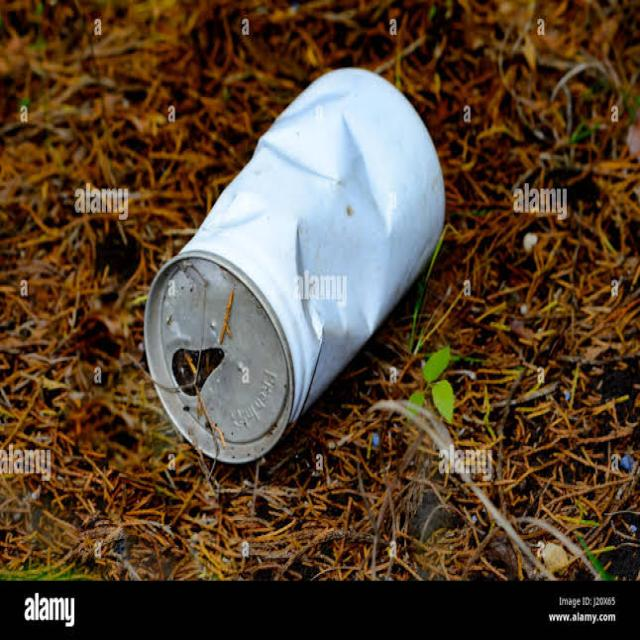can: (118, 67, 448, 463)
